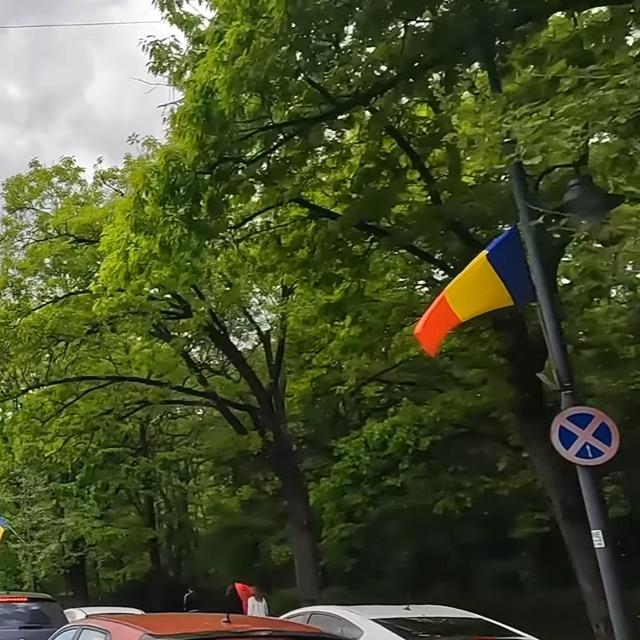forb_waiting: (550, 404, 621, 467)
